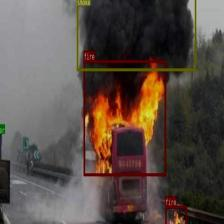fire: (83, 60, 166, 176), (164, 205, 187, 224)
smoke: (76, 0, 196, 71)
